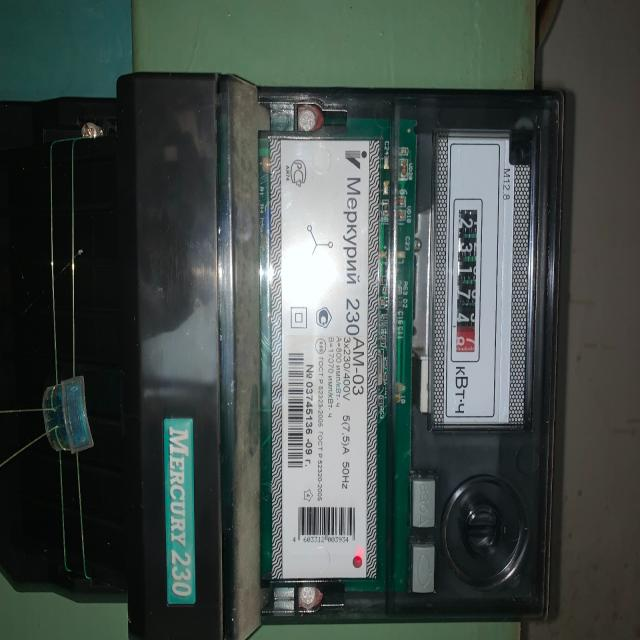Display: (443, 189, 491, 368)
meter_number: (286, 343, 316, 487)
seal_elso: (33, 352, 100, 481)
seal_mercury: (0, 81, 584, 640)
